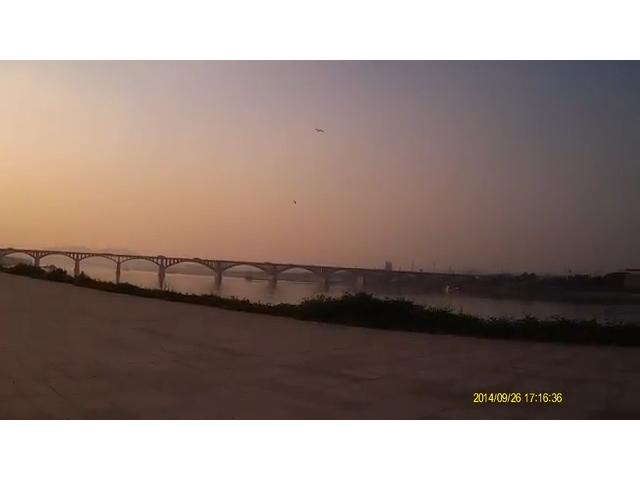Anti-Drone: (281, 195, 307, 207)
